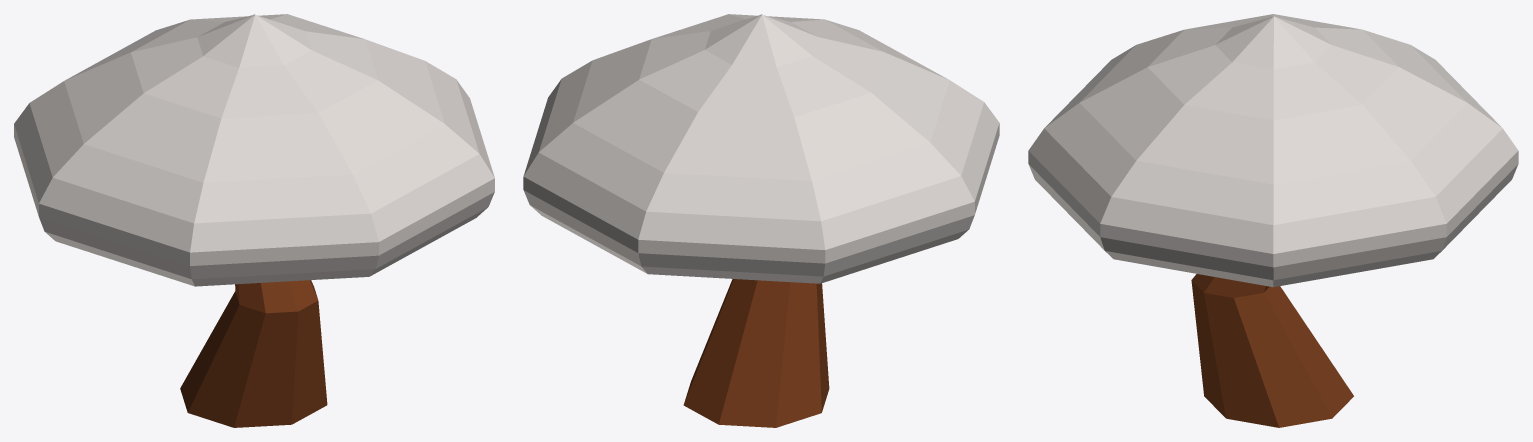
The model's file is Tree4.fbx.
3 views of the same model, side by side, from view 1: azimuth 30°, elevation 25°; view 2: azimuth 150°, elevation 25°; view 3: azimuth 270°, elevation 25° (orthographic).
Visible parts, largest first — view 1: Cylinder.001, Cylinder; view 2: Cylinder.001, Cylinder; view 3: Cylinder.001, Cylinder.
Boxes of the visible parts, box(x1,y1,x2,y2) form: Cylinder.001: box(14, 14, 494, 286); Cylinder: box(180, 280, 327, 427); Cylinder.001: box(523, 14, 999, 283); Cylinder: box(683, 279, 829, 427); Cylinder.001: box(1028, 14, 1518, 287); Cylinder: box(1191, 274, 1353, 427).
Size of the model in its own units: 653 by 557 by 653.
